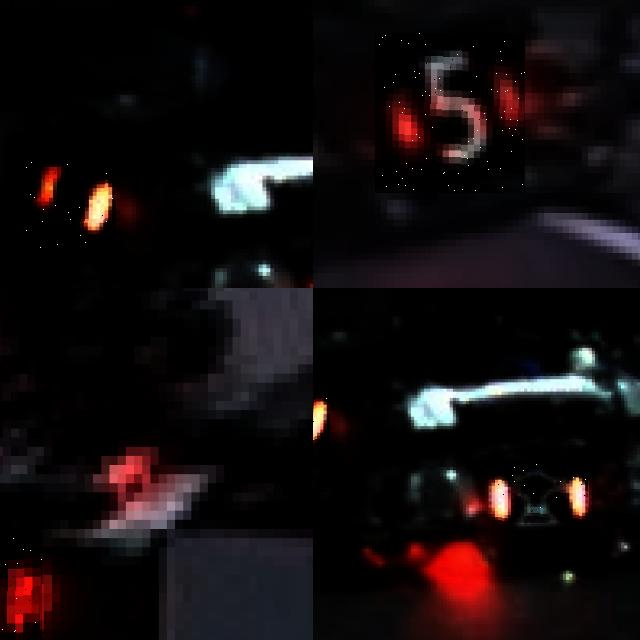R3: (0, 529, 43, 640)
R5: (375, 33, 525, 193)
Rs: (26, 156, 116, 249), (492, 464, 588, 523), (313, 385, 330, 451)
